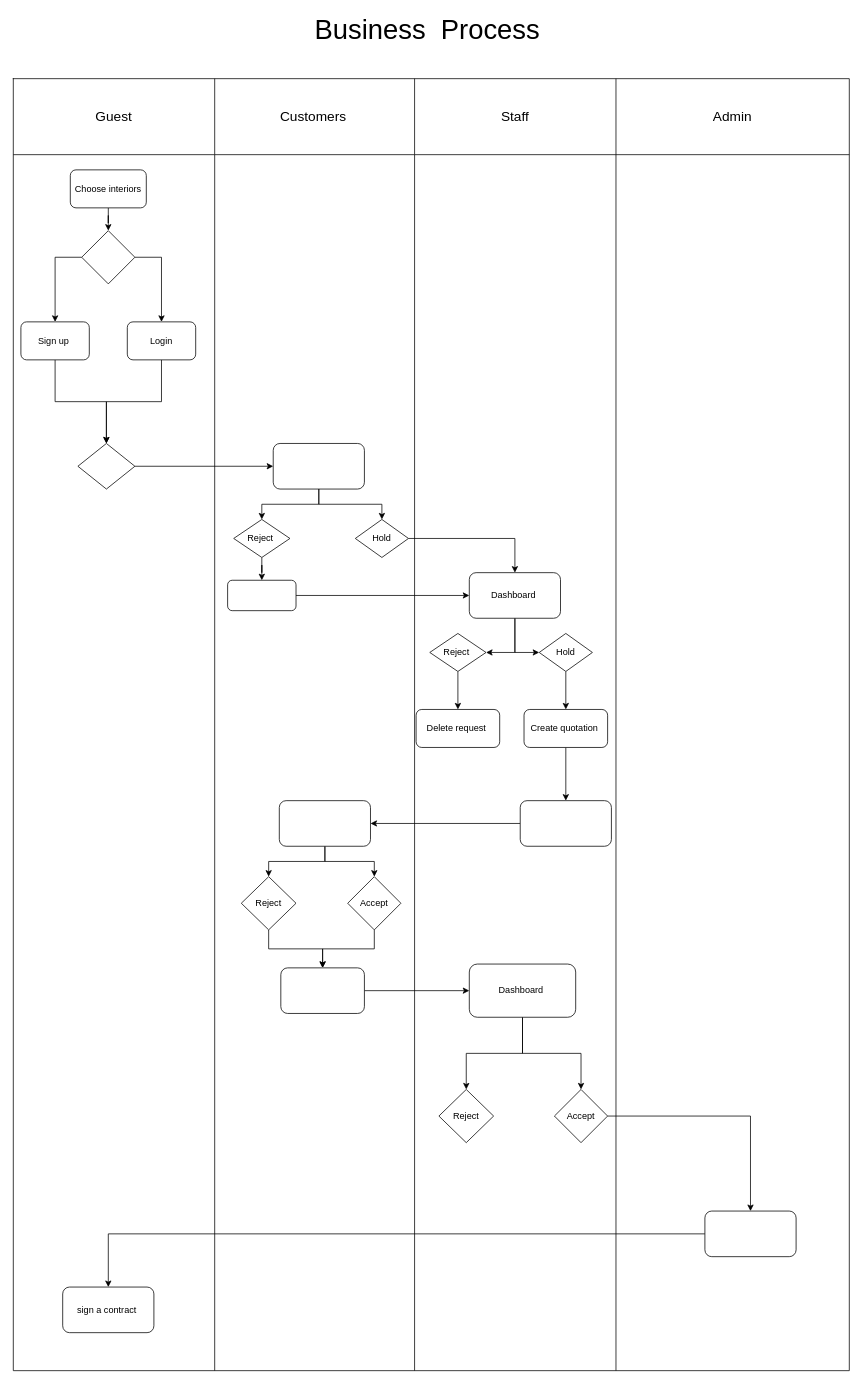
The diagram is 863 pixels wide and 1384 high, and some of its shapes have lost their labels. The box of each missing label's shape, as (x1, y1, x2, y2) in pixels:
confirm: (704, 1210, 796, 1257)
Notification: (280, 967, 364, 1013)
Notification success: (227, 580, 296, 611)
Required: (81, 230, 135, 284)
Response: (279, 800, 370, 846)
Send mail: (519, 800, 611, 846)
Send request: (272, 443, 364, 489)
Success: (77, 443, 135, 489)
